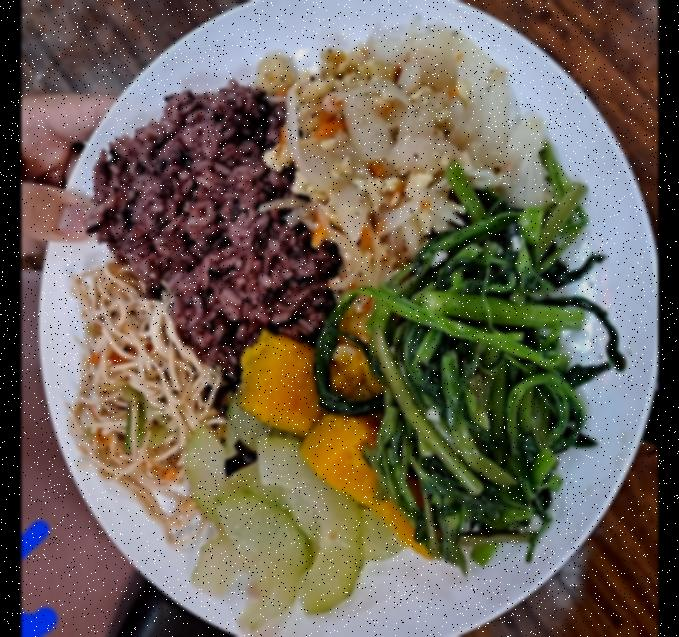big fried chicken leg: (44, 0, 658, 637)
braised fish: (96, 82, 328, 364)
braised fish fillet: (372, 194, 597, 554), (267, 39, 507, 294), (180, 414, 360, 631), (60, 267, 224, 482), (237, 332, 380, 510)
